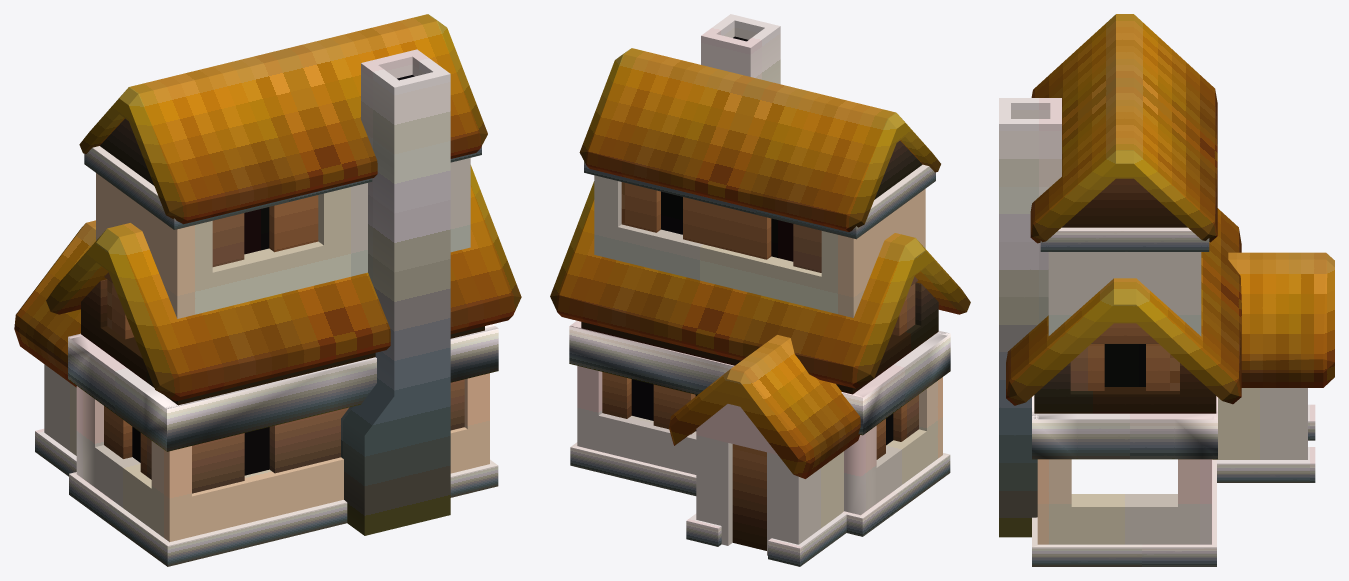
The model's file is simple_low_poly_farm_house_lvl6.glb.
The picture shows the model from 3 angles, left to right: view 1: azimuth 30°, elevation 25°; view 2: azimuth 150°, elevation 25°; view 3: azimuth 270°, elevation 25°; orthographic projection. The views are drawn at different scales.
Visible parts, largest first — view 1: farm_house_lvl6_Material #25_0; view 2: farm_house_lvl6_Material #25_0; view 3: farm_house_lvl6_Material #25_0.
Boxes of the visible parts, bbox=[...] form: farm_house_lvl6_Material #25_0: bbox=[14, 14, 521, 566]; farm_house_lvl6_Material #25_0: bbox=[550, 14, 970, 566]; farm_house_lvl6_Material #25_0: bbox=[999, 14, 1334, 566].
Bounding box in the file's own units: 4.97 × 5.79 × 4.27.
Materials: 1 (1 with a texture image).
